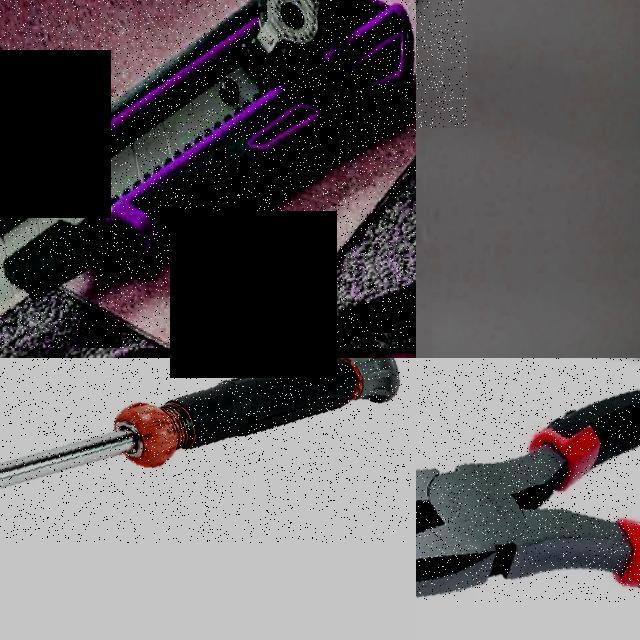estilete: (0, 0, 413, 313)
